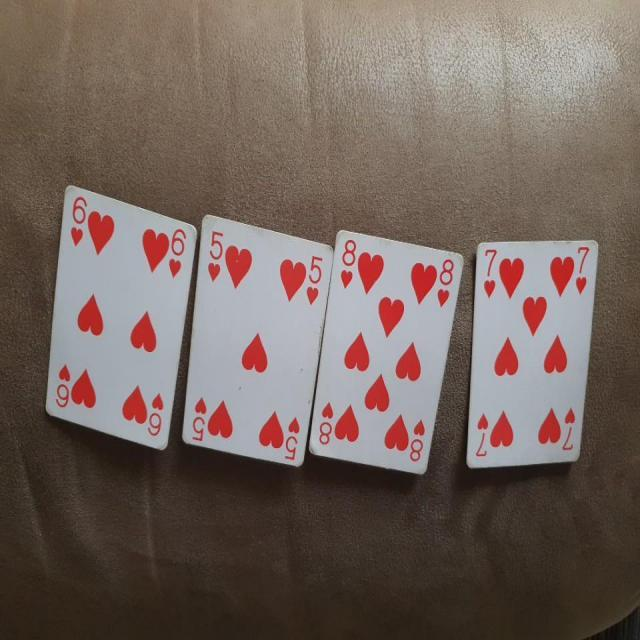5 of hearts: (172, 202, 333, 469)
6 of hearts: (41, 172, 208, 462)
7 of hearts: (462, 233, 600, 470)
8 of hearts: (312, 224, 467, 483)
